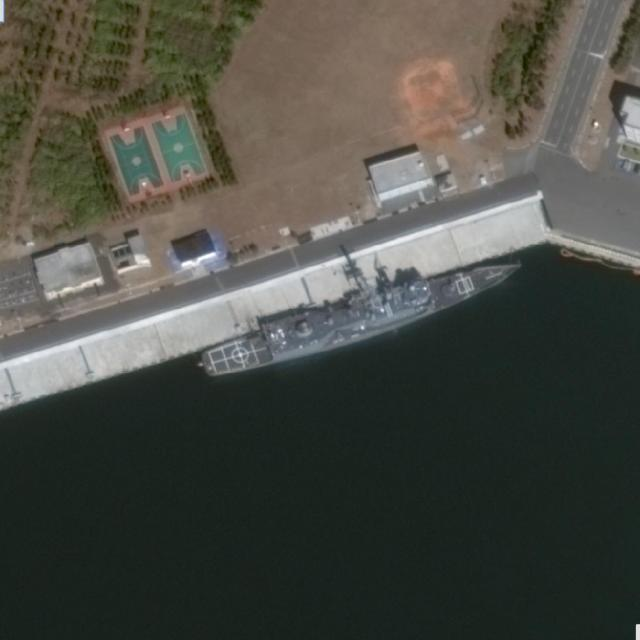Frigate: (198, 248, 529, 385)
